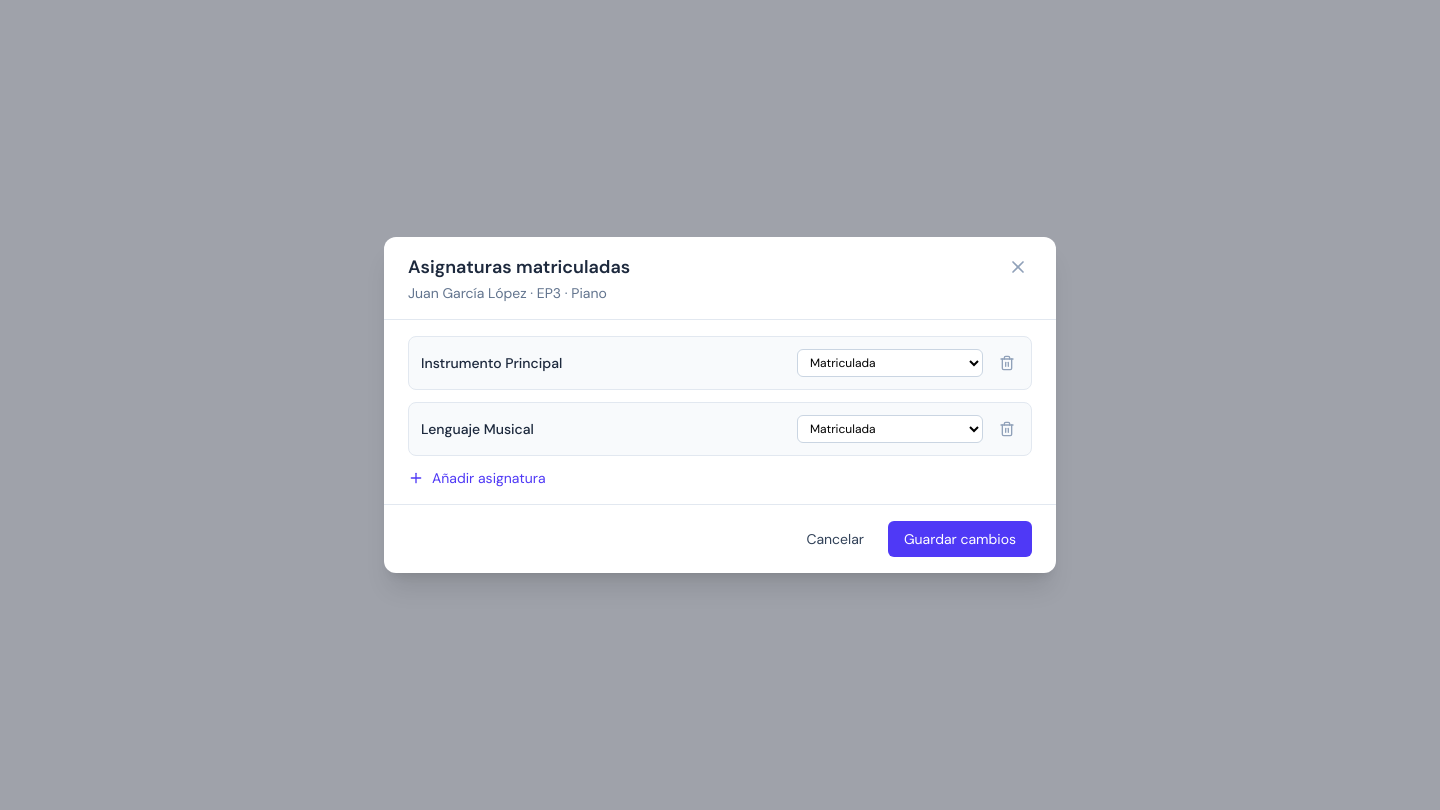
Scenario: SolicitudEditModal › removes an asignatura from the list when deleted
Click the button titled "Eliminar asignatura" in the row of "Instrumento Principal".
click(1007, 363)  # box [995, 351, 1019, 375]
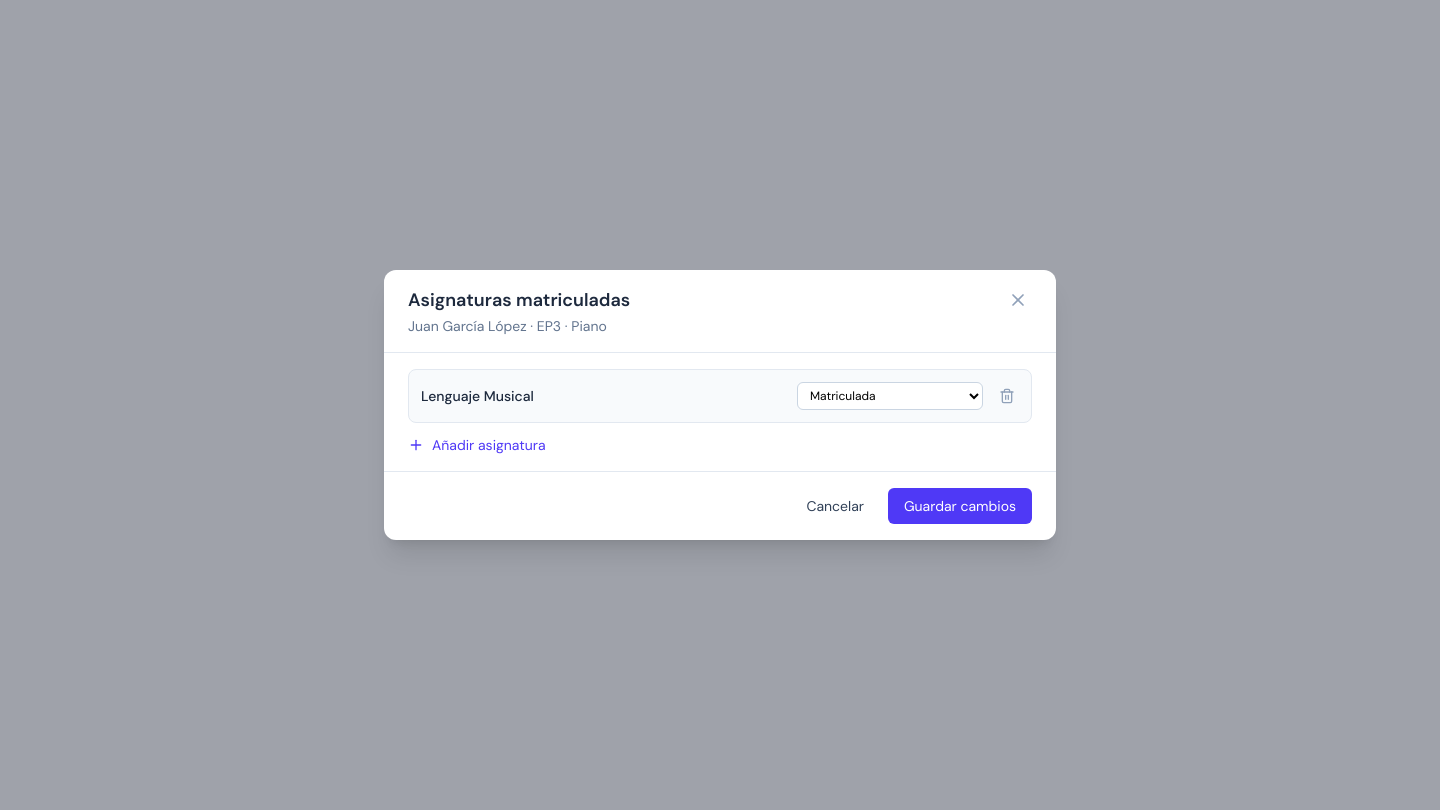
Expected: the text "Lenguaje Musical" is shown, [421, 387, 534, 405]
Now the text "Instrumento Principal" is gone
